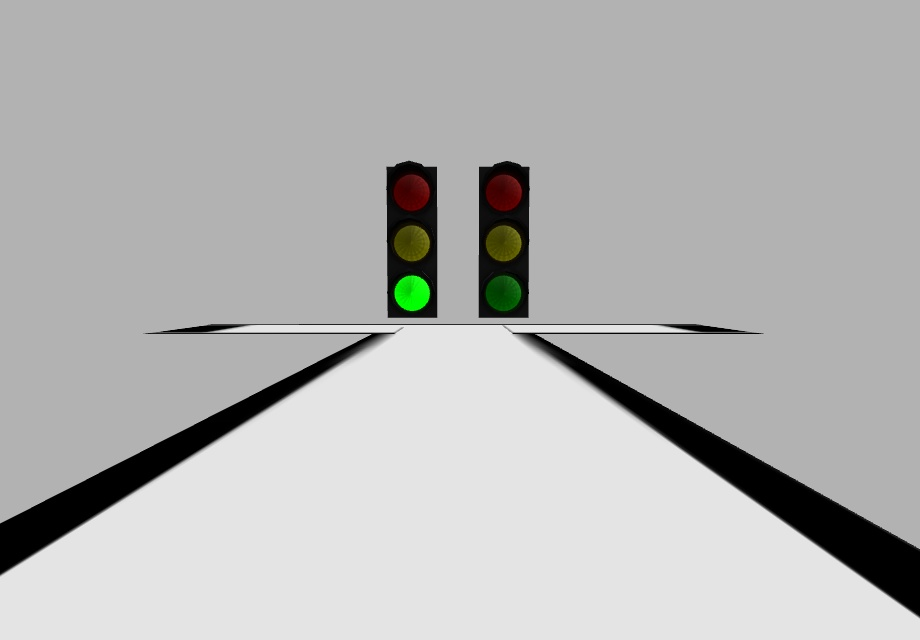green_off: (484, 274, 521, 315)
green_on: (393, 273, 432, 314)
